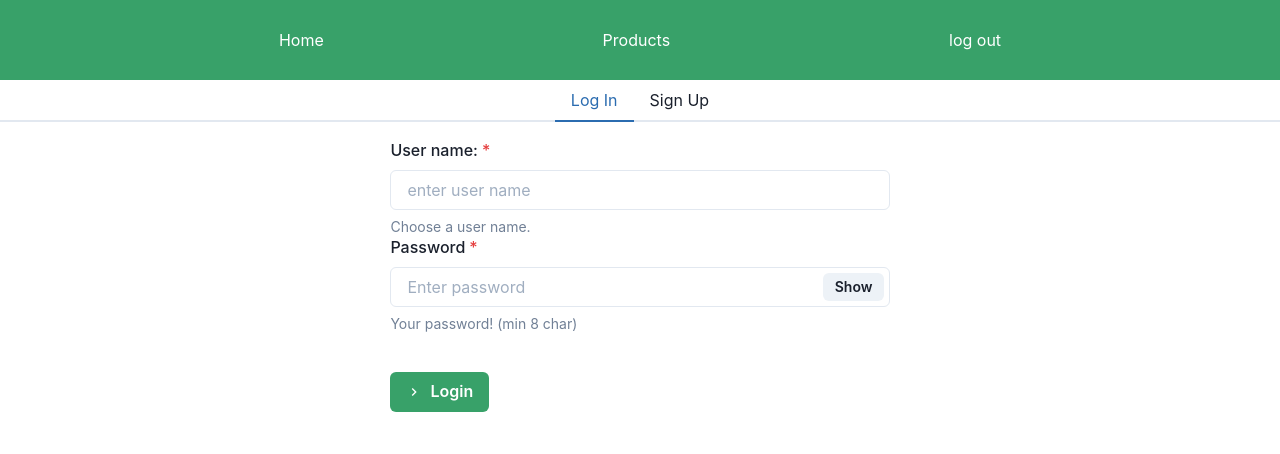
Login form input validation › rejects an empty credentials
Click the tab with test id "login-tab" at (595, 101), box left=555, top=80, right=634, bottom=122
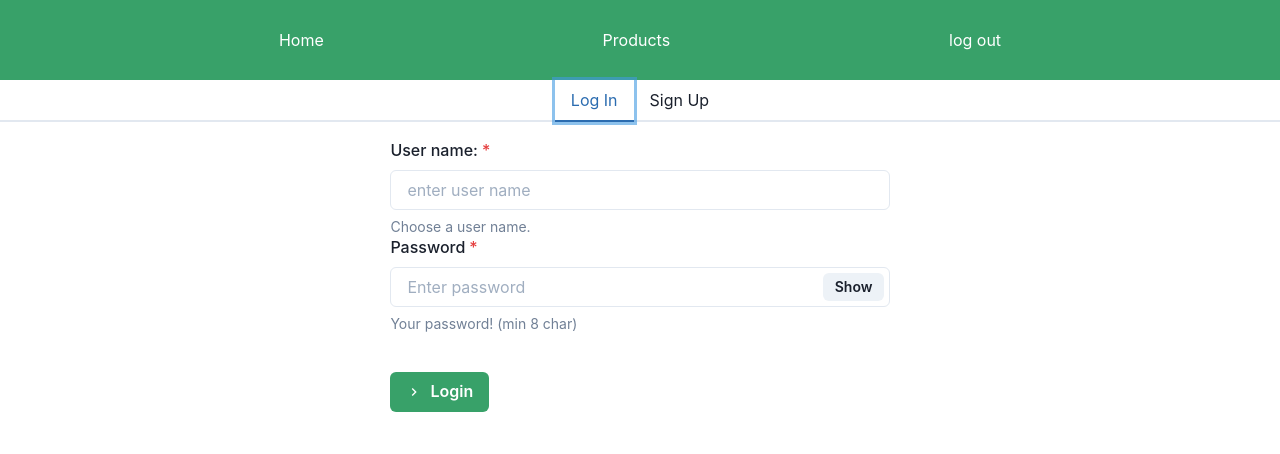
Expected: the element with test id "login-form" is shown, left=390, top=138, right=889, bottom=412
Click the button with test id "login-submit" at (440, 392), box left=390, top=372, right=489, bottom=412
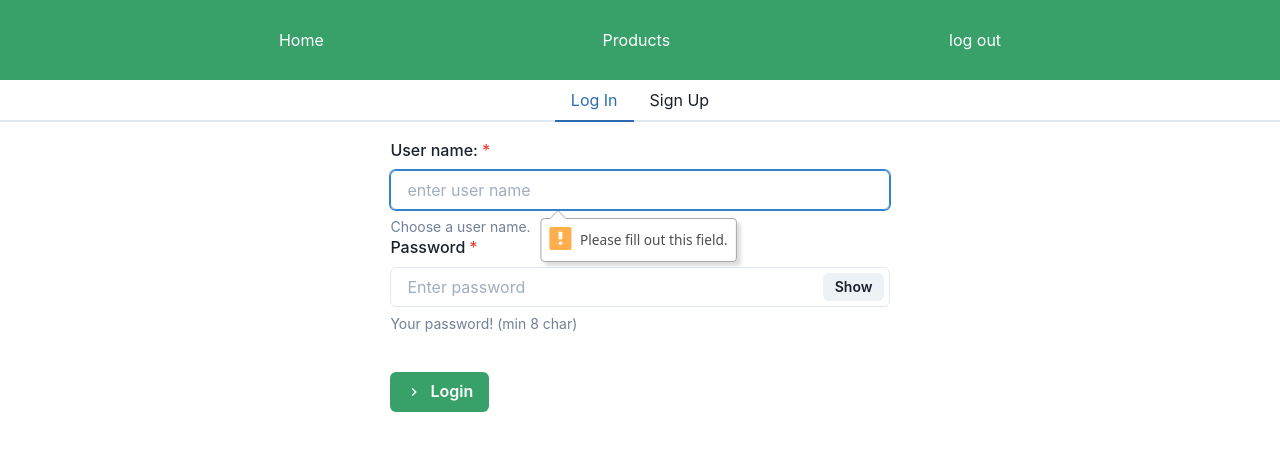
Click the button with test id "login-submit" at (440, 392), box left=390, top=372, right=489, bottom=412
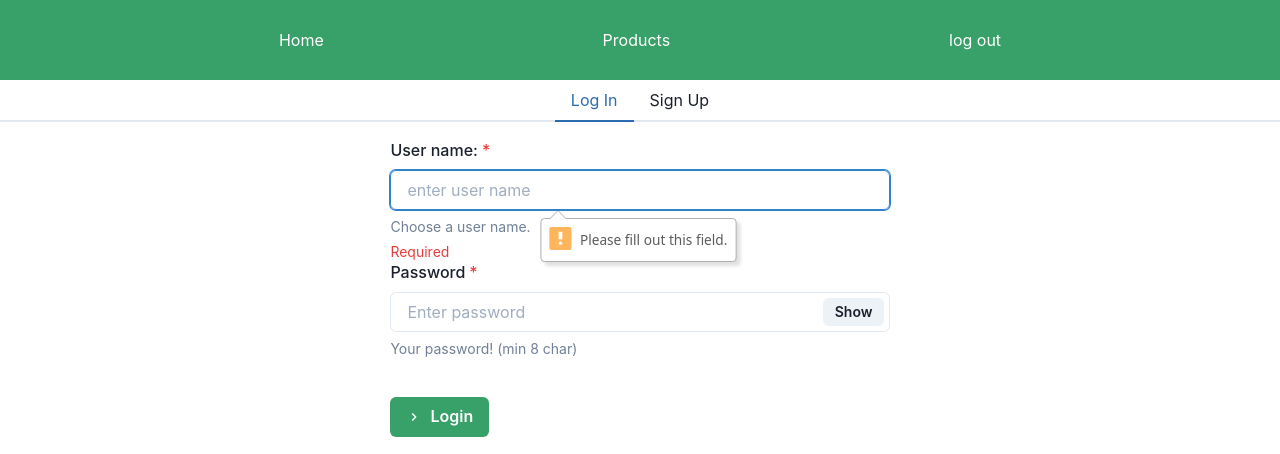
Now the text with test id "login-user-error" reads "Required", box left=390, top=243, right=449, bottom=260
